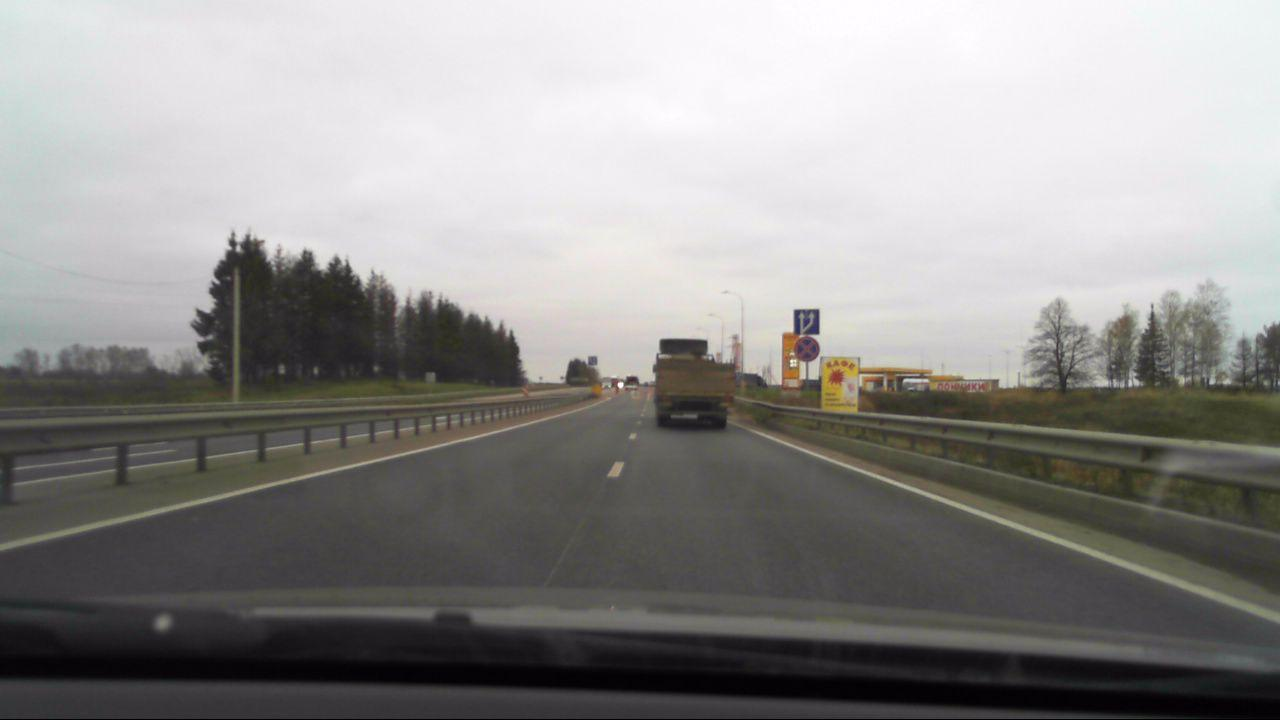3_27: (794, 335, 820, 363)
5_15_3: (794, 307, 821, 334)
